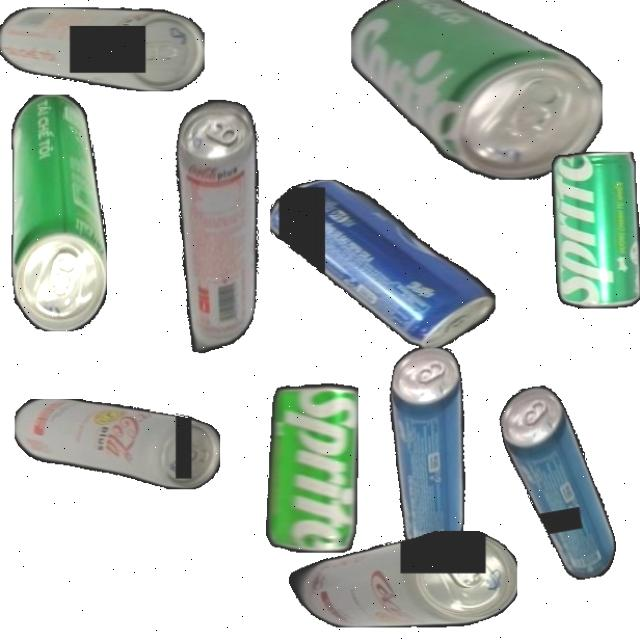debris: (350, 0, 603, 180), (141, 92, 289, 360), (270, 179, 496, 348), (363, 341, 492, 559), (496, 378, 620, 588), (10, 94, 107, 332), (282, 531, 518, 627), (236, 382, 358, 553), (13, 399, 220, 489), (0, 8, 205, 92), (550, 151, 640, 308)
